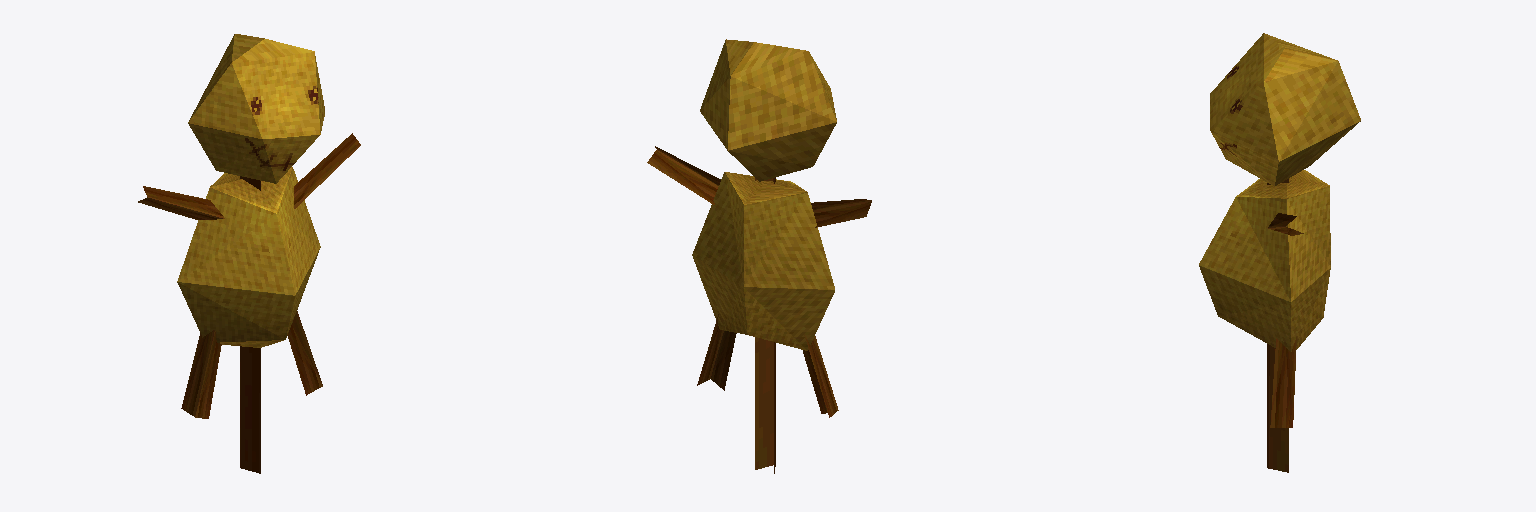
The picture shows the model from 3 angles: view 1: azimuth 30°, elevation 25°; view 2: azimuth 150°, elevation 25°; view 3: azimuth 270°, elevation 25°; orthographic projection.
Visible parts, largest first — view 1: gPoohDumFull; view 2: gPoohDumFull; view 3: gPoohDumFull.
Part boxes in pixels (left/top/right/bottom): gPoohDumFull: left=138, top=34, right=360, bottom=473; gPoohDumFull: left=647, top=39, right=871, bottom=473; gPoohDumFull: left=1199, top=33, right=1360, bottom=472.
Size of the model in its own units: 4.65 by 8.7 by 3.02.
Materials: 1 (1 with a texture image).